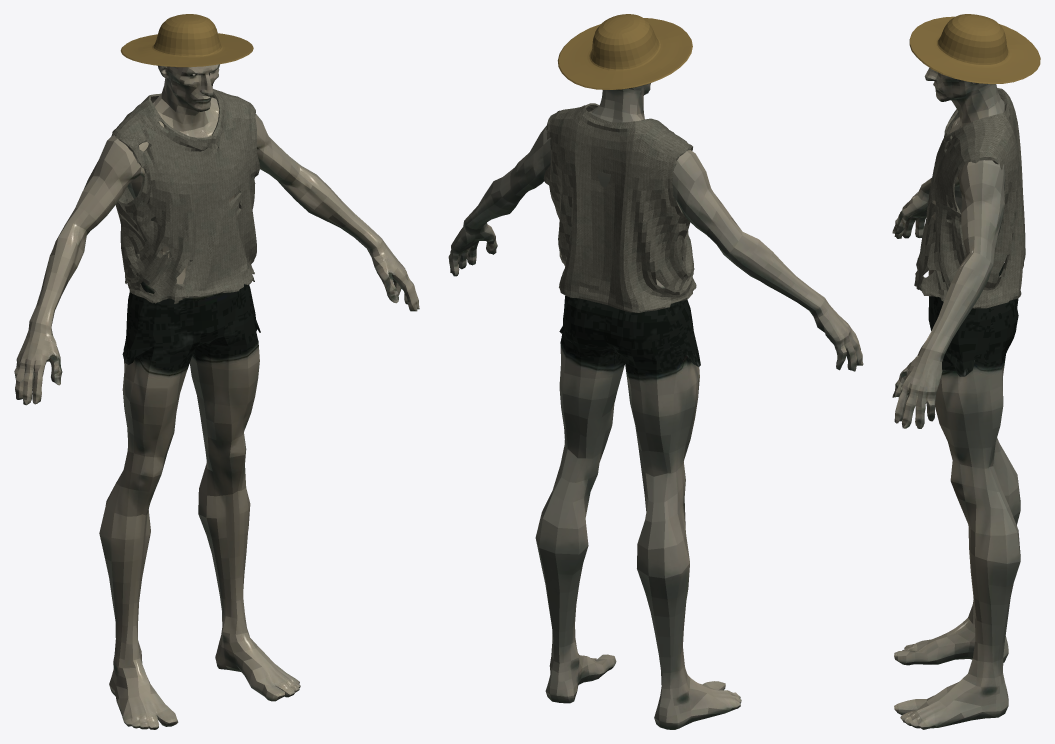
File: silbon.glb
3 views of the same model, side by side, from view 1: azimuth 30°, elevation 25°; view 2: azimuth 150°, elevation 25°; view 3: azimuth 270°, elevation 25° (orthographic). The views are drawn at different scales.
Parts seen in each view (by area): view 1: Retopology.001, Retopo_Camisa.001, Retopo_Sombrero.001; view 2: Retopology.001, Retopo_Camisa.001, Retopo_Sombrero.001; view 3: Retopology.001, Retopo_Camisa.001, Retopo_Sombrero.001.
Boxes of the visible parts, x1=… form: Retopology.001: x1=14, y1=64, x2=419, y2=729; Retopo_Camisa.001: x1=111, y1=89, x2=259, y2=303; Retopo_Sombrero.001: x1=120, y1=14, x2=253, y2=67; Retopology.001: x1=448, y1=83, x2=863, y2=729; Retopo_Camisa.001: x1=543, y1=103, x2=696, y2=312; Retopo_Sombrero.001: x1=557, y1=14, x2=692, y2=89; Retopology.001: x1=892, y1=68, x2=1020, y2=729; Retopo_Camisa.001: x1=914, y1=88, x2=1025, y2=308; Retopo_Sombrero.001: x1=909, y1=14, x2=1040, y2=84.
Size of the model in its own units: 0.62 by 1 by 0.1999.
3 materials, 2 textured.
